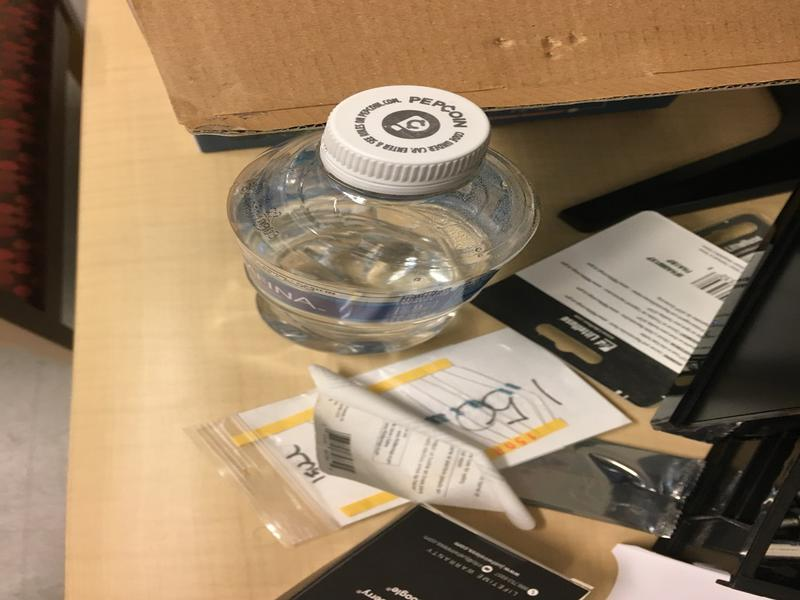bottle: (225, 80, 541, 361)
